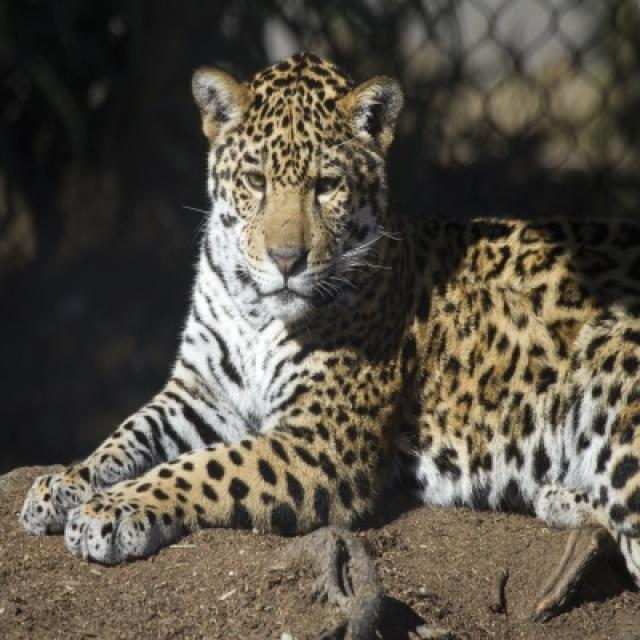Jaguar: (19, 53, 638, 638)
